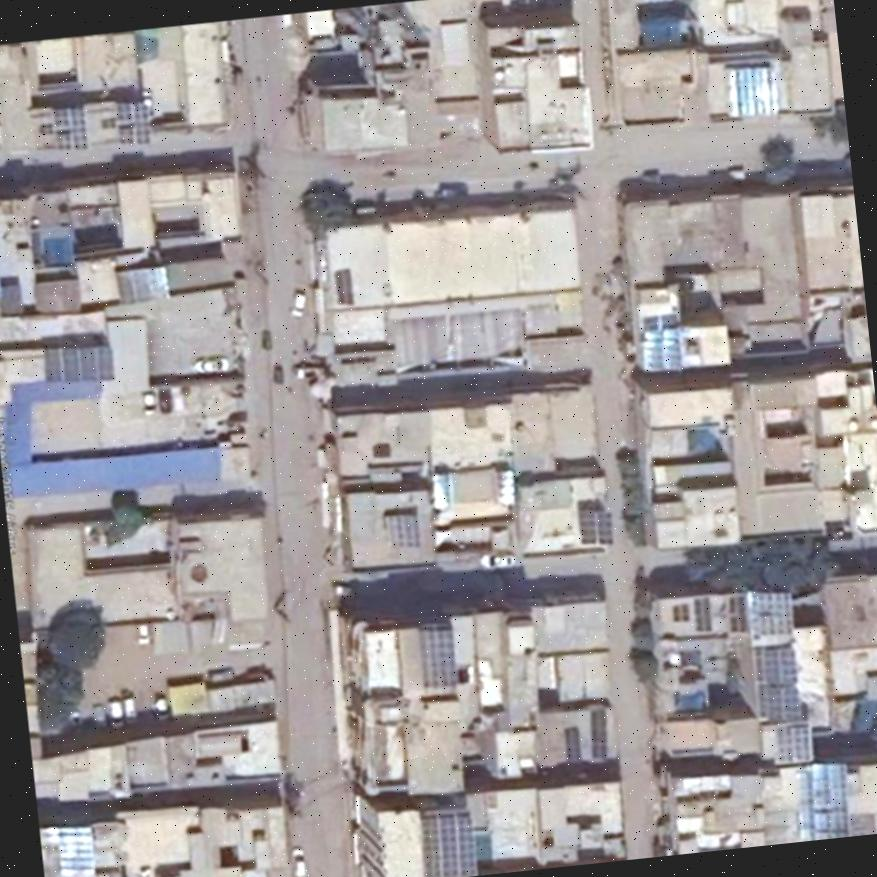Solarpanel: (798, 765, 846, 840), (422, 816, 473, 877), (755, 646, 796, 720), (735, 65, 778, 115), (57, 826, 93, 877), (116, 267, 166, 303), (424, 630, 454, 687), (749, 593, 791, 633), (642, 330, 678, 370), (55, 106, 88, 148), (117, 104, 151, 144), (778, 724, 811, 763), (578, 509, 610, 544), (386, 514, 418, 546), (591, 711, 605, 759), (335, 270, 354, 303), (727, 596, 744, 631), (694, 600, 710, 630)
